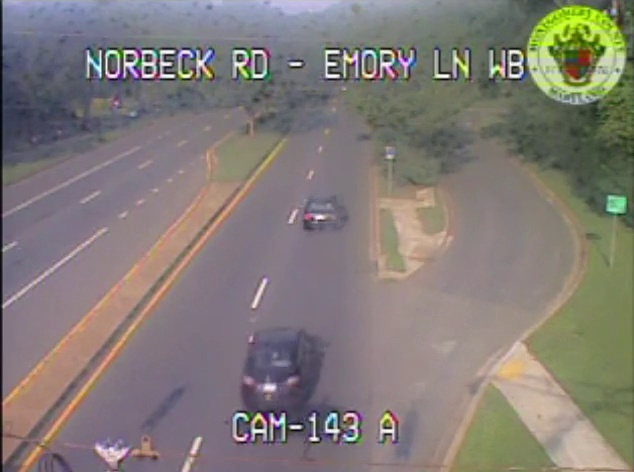car: (241, 328, 303, 408), (303, 197, 336, 227)
